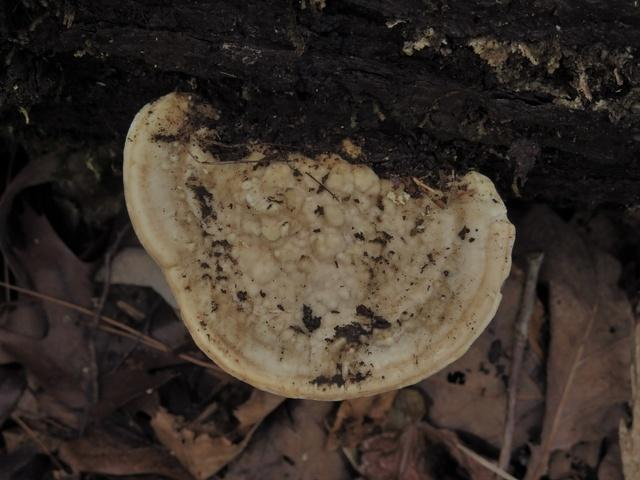Non-edible Mushroom: (120, 88, 517, 402)
